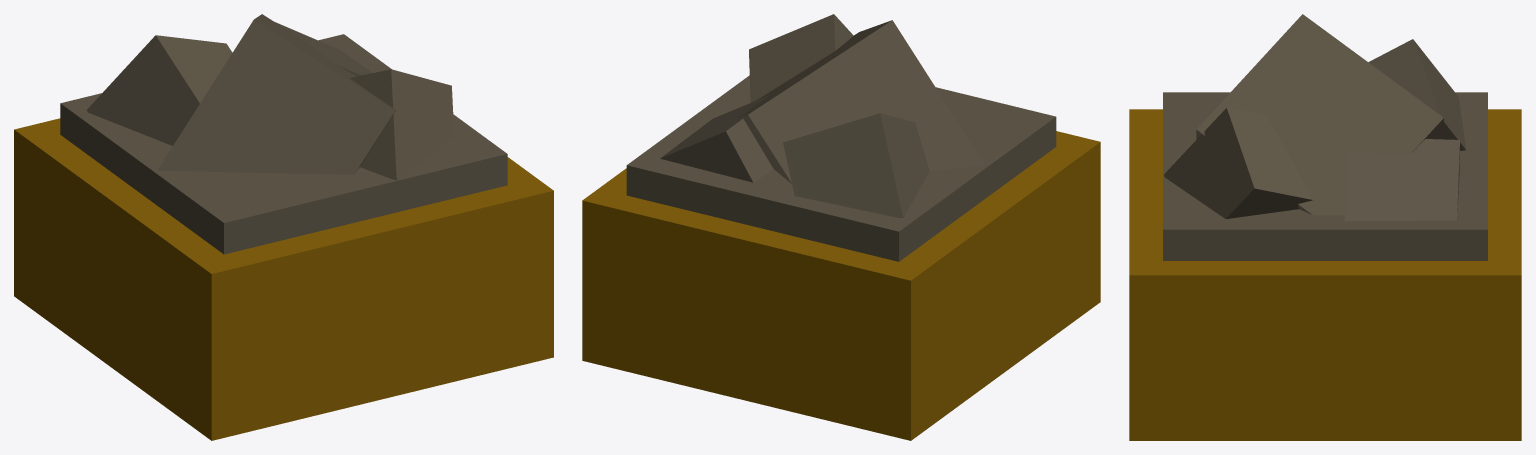
File: ironfree.fbx
3 renders of one model, left to right at view 1: azimuth 30°, elevation 25°; view 2: azimuth 150°, elevation 25°; view 3: azimuth 270°, elevation 25°, orthographic. The views are drawn at different scales.
Visible parts, largest first — view 1: ironbasket; view 2: ironbasket; view 3: ironbasket.
Part boxes in pixels (<box>): ironbasket: <box>14,14,553,440</box>; ironbasket: <box>582,14,1100,440</box>; ironbasket: <box>1129,14,1521,440</box>.
Size of the model in its own units: 0.102 by 0.0928 by 0.102.
